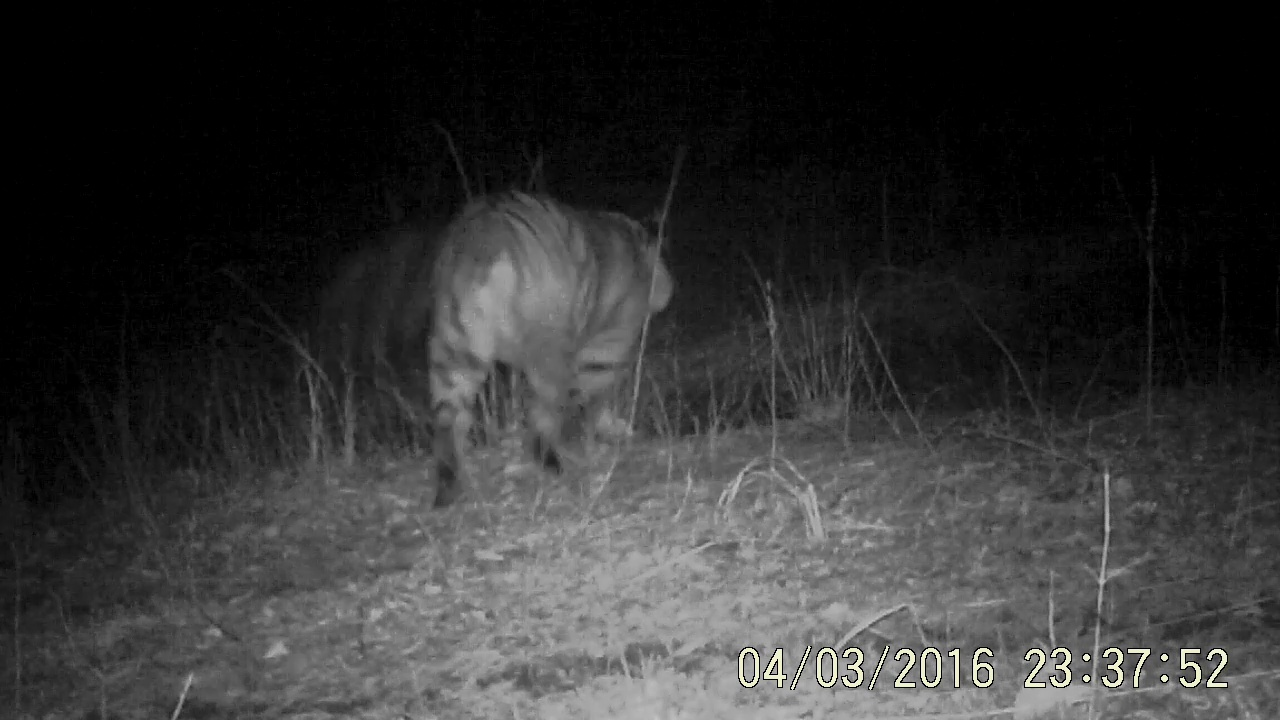Tiger: (391, 166, 763, 547)
